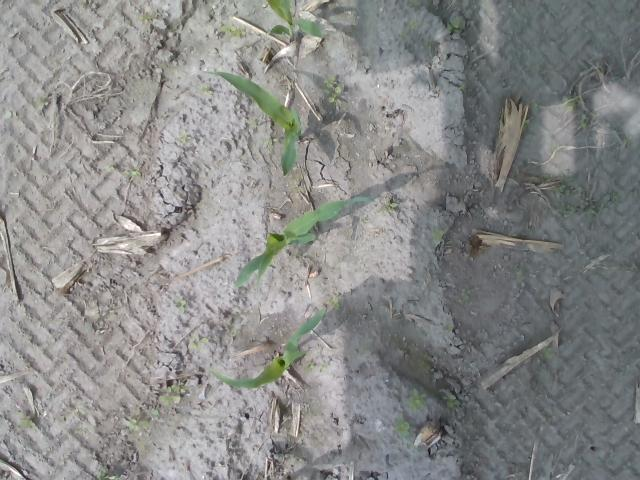Maize: (230, 194, 374, 295), (204, 68, 302, 178), (208, 307, 326, 391), (265, 0, 321, 40)
Weeds: (554, 181, 617, 218), (158, 382, 186, 404), (322, 76, 342, 104), (407, 386, 427, 410), (578, 110, 602, 128), (398, 20, 418, 40), (218, 24, 246, 38), (125, 417, 149, 432), (394, 416, 410, 437), (96, 468, 122, 480), (327, 292, 342, 311), (382, 197, 398, 214), (190, 335, 209, 349), (441, 393, 456, 409), (446, 18, 462, 31), (174, 298, 186, 314), (19, 414, 32, 428), (266, 135, 280, 147), (543, 345, 555, 357), (529, 98, 539, 112), (125, 168, 142, 176), (302, 360, 315, 370), (138, 14, 150, 24), (432, 230, 440, 239), (152, 408, 160, 417), (200, 85, 208, 93)
